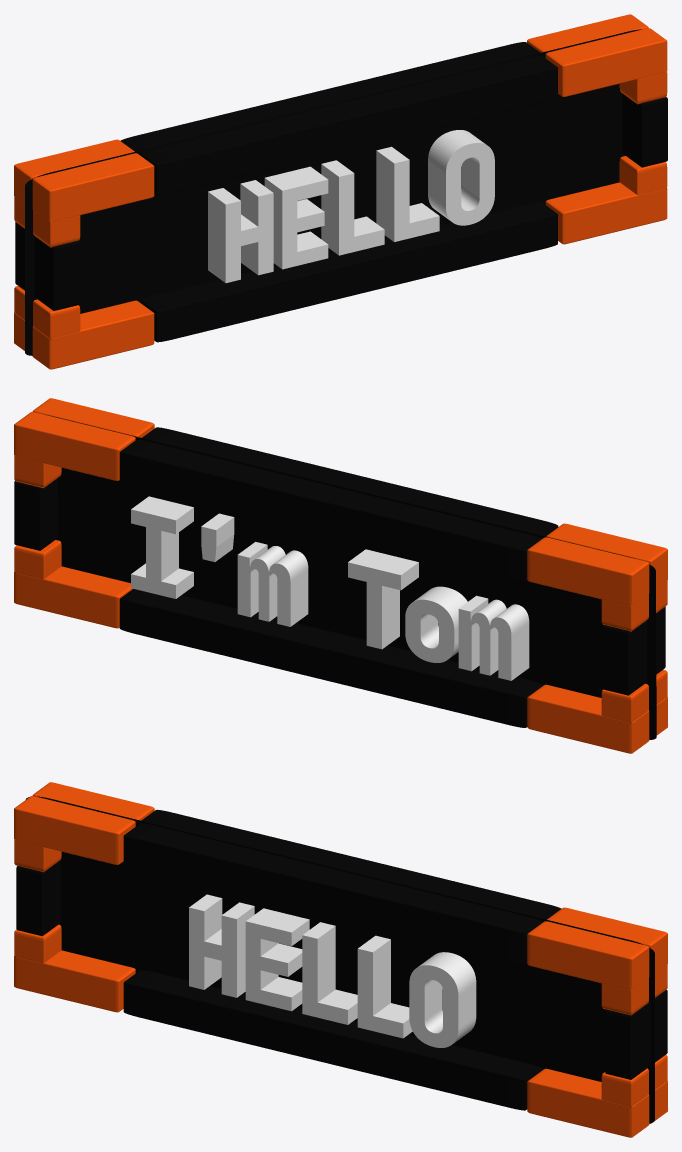
3 views of the same model, one above another, from view 1: azimuth 30°, elevation 25°; view 2: azimuth 150°, elevation 25°; view 3: azimuth 330°, elevation 25° (orthographic).
Parts seen in each view (by area): view 1: background illusion I, Pillier 5, Pillier 7, 3D Text 2 - L (×2), Angle haut-gauche 2, Pillier 6, Angle haut-droit 2, Angle bas-gauche 2, Angle bas-droit 4, 3D Text 2 - H, 3D Text 2 - O, 3D Text 2 - E (+6 smaller); view 2: background illusion II, Pillier 6, Pillier 8, 3D Text 3 - m (×2), Angle haut-gauche 3, Pillier 5, Angle bas-gauche 3, Angle haut-droit 3, Angle bas-droit 3, 3D Text 3 - I, 3D Text 3 - T, 3D Text 3 - o (+7 smaller); view 3: background illusion I, Pillier 5, Pillier 7, 3D Text 2 - L (×2), Angle haut-droit 2, Pillier 6, Angle haut-gauche 2, Angle bas-droit 4, Angle bas-gauche 2, 3D Text 2 - O, 3D Text 2 - E, 3D Text 2 - H (+6 smaller).
Boxes of the visible parts, x1,y1,x2,y2 form: background illusion I: (25,29,641,355); Pillier 5: (140,55,557,195); Pillier 7: (140,202,557,342); 3D Text 2 - L (×2): (321,146,439,255); Angle haut-gauche 2: (32,153,154,247); Pillier 6: (120,42,540,151); Angle haut-droit 2: (545,28,667,104); Angle bas-gauche 2: (32,299,154,369); Angle bas-droit 4: (545,156,667,244); 3D Text 2 - H: (208,180,273,283); 3D Text 2 - O: (428,130,494,225); 3D Text 2 - E: (264,166,328,269); background illusion II: (45,414,656,739); Pillier 6: (119,440,541,581); Pillier 8: (119,589,542,727); 3D Text 3 - m (×2): (237,542,529,680); Angle haut-gauche 3: (527,537,649,631); Pillier 5: (142,427,558,536); Angle bas-gauche 3: (527,683,649,753); Angle haut-droit 3: (14,412,135,488); Angle bas-droit 3: (14,540,133,628); 3D Text 3 - I: (131,496,193,598); 3D Text 3 - T: (348,549,418,649); 3D Text 3 - o: (405,586,467,662); background illusion I: (25,796,654,1123); Pillier 5: (123,823,542,963); Pillier 7: (123,970,542,1110); 3D Text 2 - L (×2): (302,922,412,1038); Angle haut-droit 2: (527,921,649,1015); Pillier 6: (141,809,561,919); Angle haut-gauche 2: (14,796,135,872); Angle bas-droit 4: (527,1068,649,1137); Angle bas-gauche 2: (14,924,135,1012); 3D Text 2 - O: (409,952,476,1047); 3D Text 2 - E: (245,908,309,1011); 3D Text 2 - H: (189,894,254,997).
Bounding box in the file's own units: 0.305 × 0.084 × 0.032.
